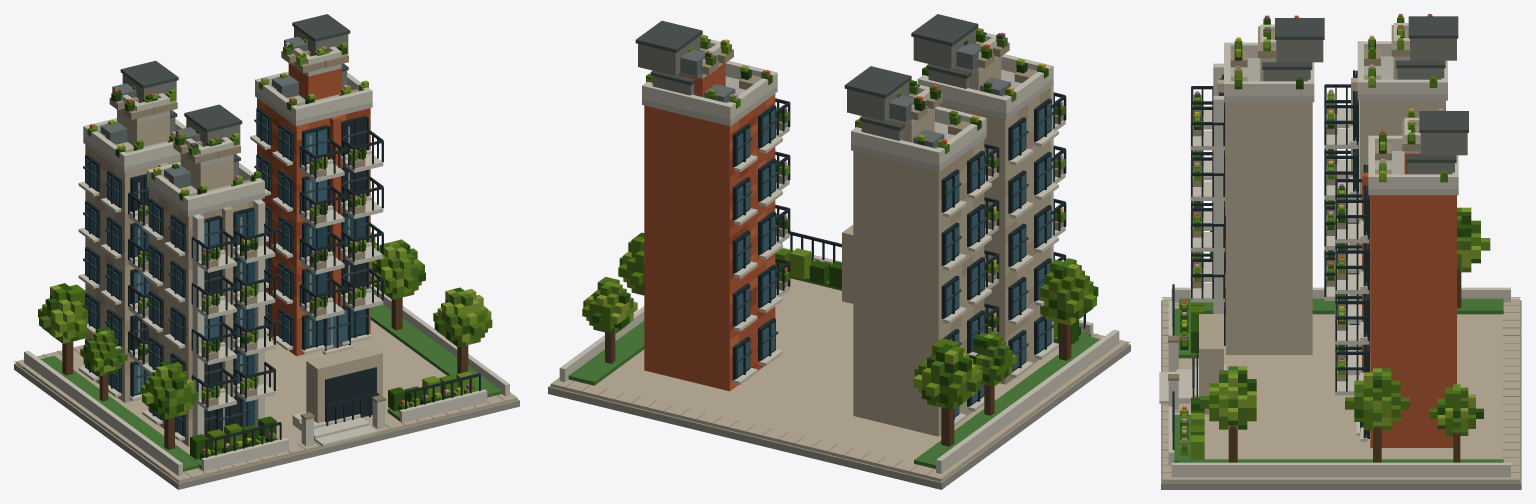
Rendered from SM_Mapa_024.fbx.
3 renders of one model, left to right at view 1: azimuth 30°, elevation 25°; view 2: azimuth 150°, elevation 25°; view 3: azimuth 270°, elevation 25°, orthographic. The views are drawn at different scales.
Visible parts, largest first — view 1: SM_Mapa_024; view 2: SM_Mapa_024; view 3: SM_Mapa_024.
Boxes of the visible parts, bbox=[...] form: SM_Mapa_024: bbox=[14, 14, 519, 489]; SM_Mapa_024: bbox=[548, 14, 1130, 489]; SM_Mapa_024: bbox=[1159, 14, 1521, 489].
Bounding box in the file's own units: 32 × 26.47 × 26.76.
